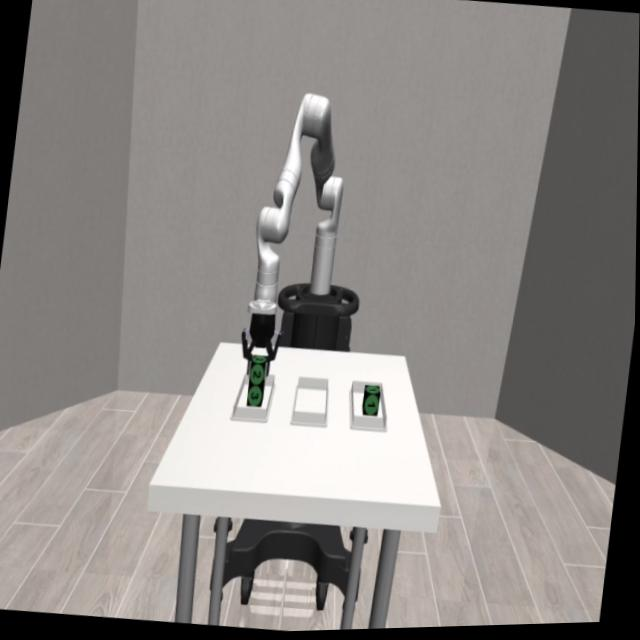cube1: (363, 387, 383, 418)
cube2: (248, 354, 269, 388)
cube3: (248, 383, 264, 410)
